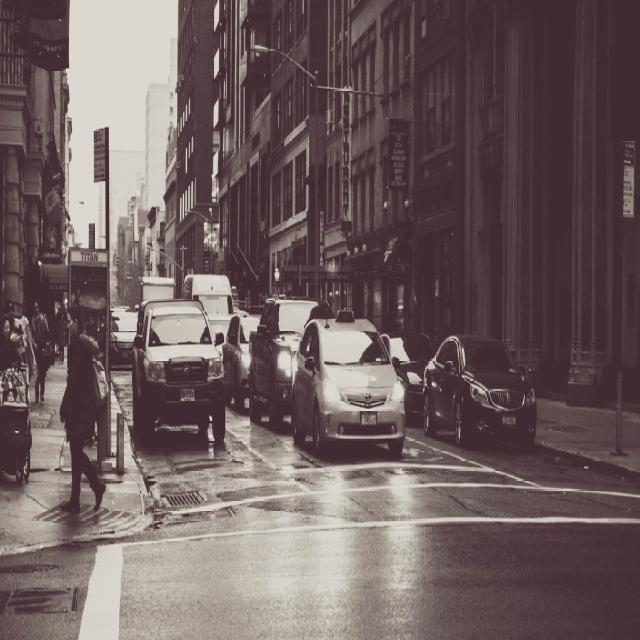car: (290, 307, 405, 457), (421, 328, 537, 448)
